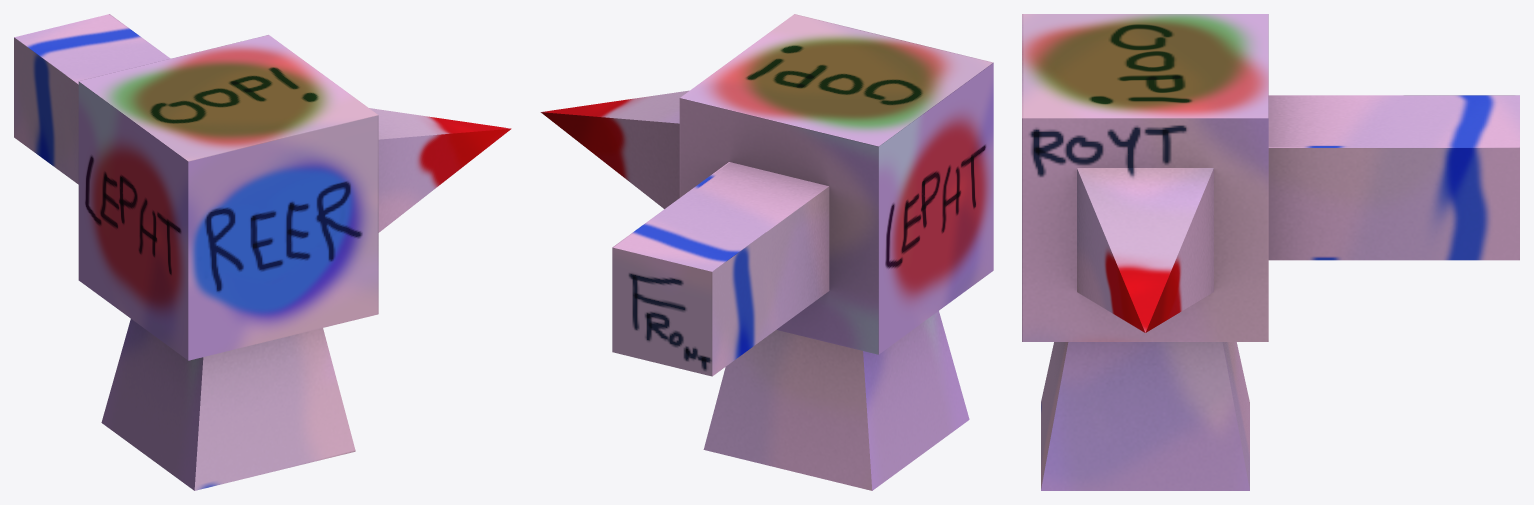
The model's file is testcube.gltf.
3 views of the same model, side by side, from view 1: azimuth 30°, elevation 25°; view 2: azimuth 150°, elevation 25°; view 3: azimuth 270°, elevation 25° (orthographic). The views are drawn at different scales.
Visible parts, largest first — view 1: testcube_default; view 2: testcube_default; view 3: testcube_default.
Part boxes in pixels (x1,y1,x2,y2): testcube_default: [14, 14, 511, 490]; testcube_default: [540, 14, 993, 490]; testcube_default: [1022, 14, 1519, 490].
Bounding box in the file's own units: 1.99 × 1.7 × 2.02.
Materials: 1 (1 with a texture image).
